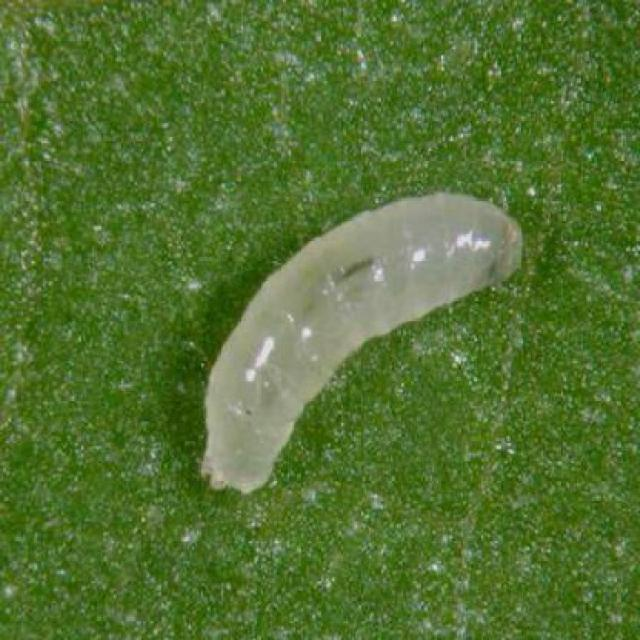whorl-maggot: (196, 183, 529, 499)
